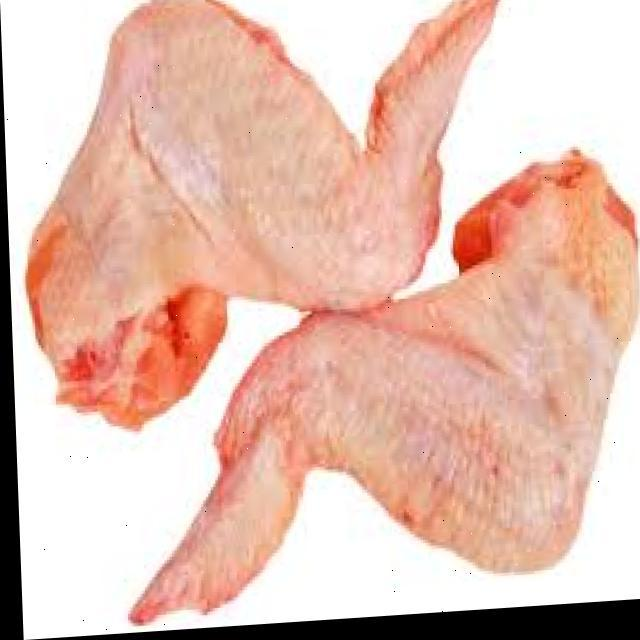wing: (134, 175, 636, 607), (24, 0, 500, 401)
